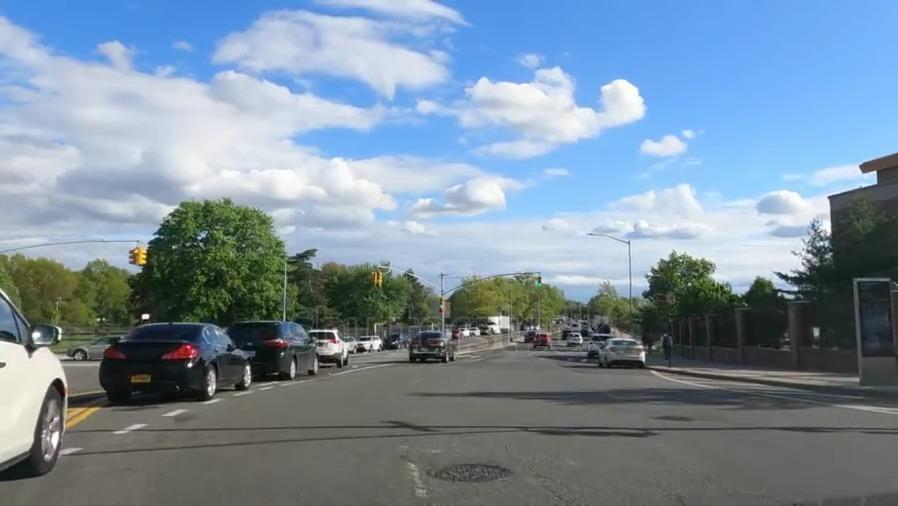car: (1, 277, 72, 484), (107, 325, 250, 400), (231, 317, 321, 380), (409, 331, 459, 365), (310, 325, 349, 366), (65, 336, 122, 362), (601, 336, 647, 368), (359, 333, 385, 357), (387, 333, 411, 353), (589, 331, 603, 356), (344, 335, 359, 352)
manhole: (421, 458, 518, 490)
person: (660, 333, 675, 364)
traffic light: (125, 243, 151, 271), (367, 268, 385, 287), (534, 273, 544, 290)
wheel: (20, 383, 69, 474), (198, 363, 222, 402), (233, 360, 256, 391), (282, 354, 299, 380), (309, 355, 320, 376)
